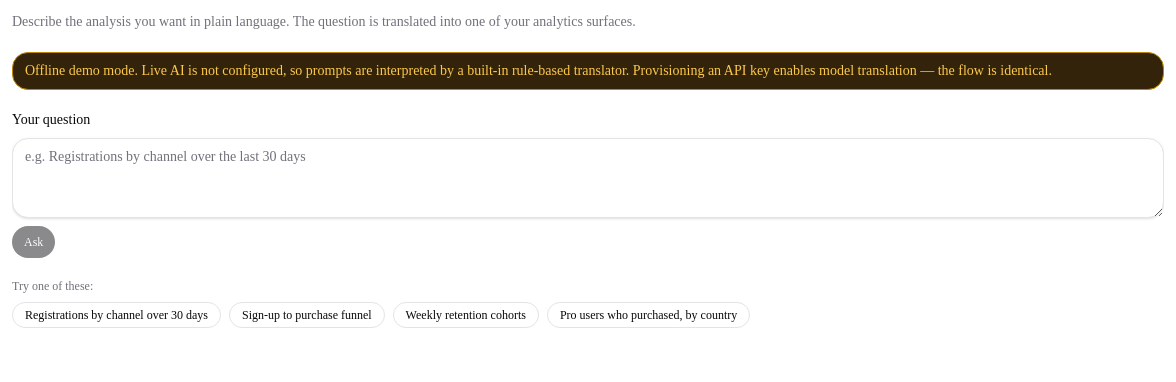
Test: AiQueryManager › renders a failure message when translation is unrecognized
Type "tell me a joke" into the text box labelled "Your question" at [588, 178], box x1=12 y1=138 x2=1164 y2=218
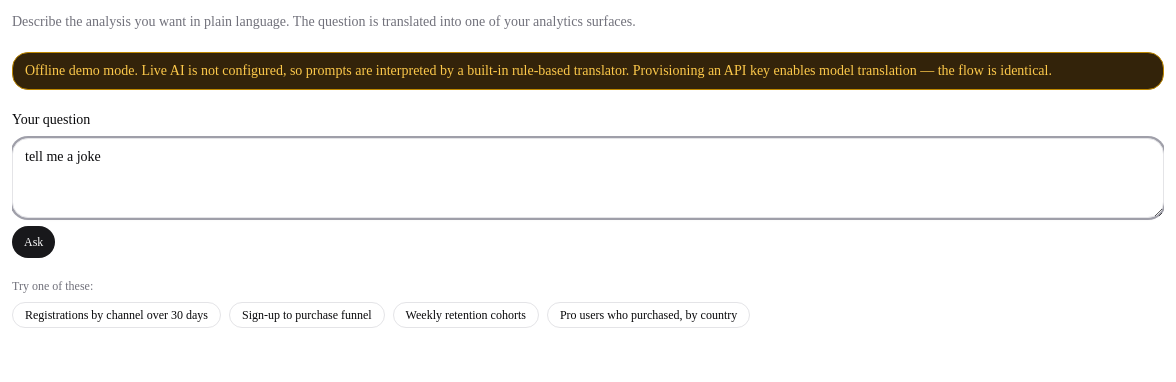
Click the button "Ask" at [34, 242], box x1=12 y1=226 x2=55 y2=258
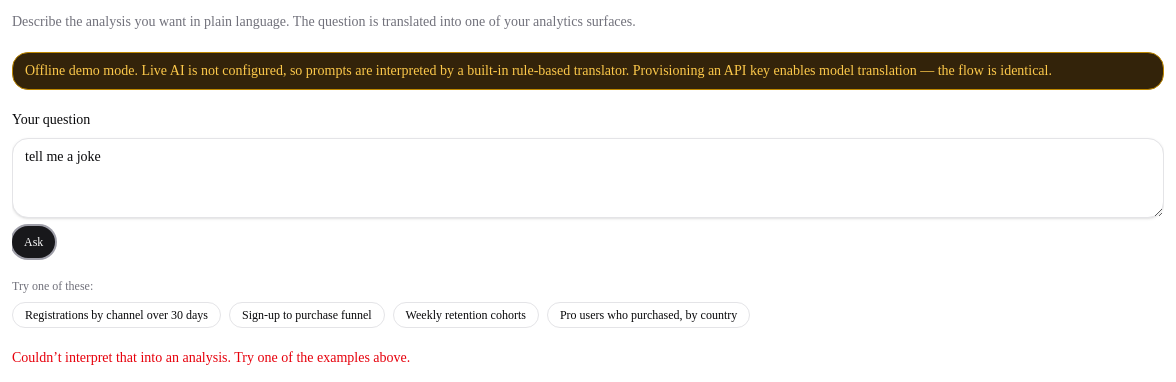
Expected: the message shows "Couldn’t interpret", x1=12 y1=350 x2=410 y2=365
